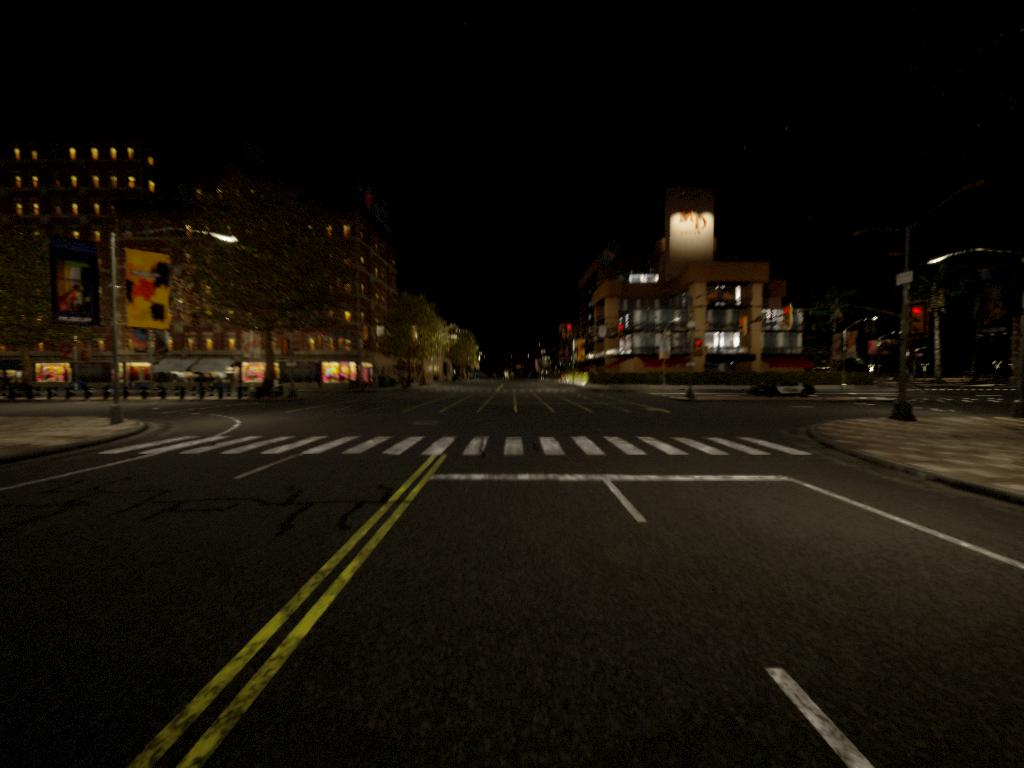traffic_light: (911, 306, 931, 335), (783, 306, 794, 332), (739, 316, 750, 338), (564, 323, 575, 341), (693, 339, 704, 357), (618, 325, 627, 340)
